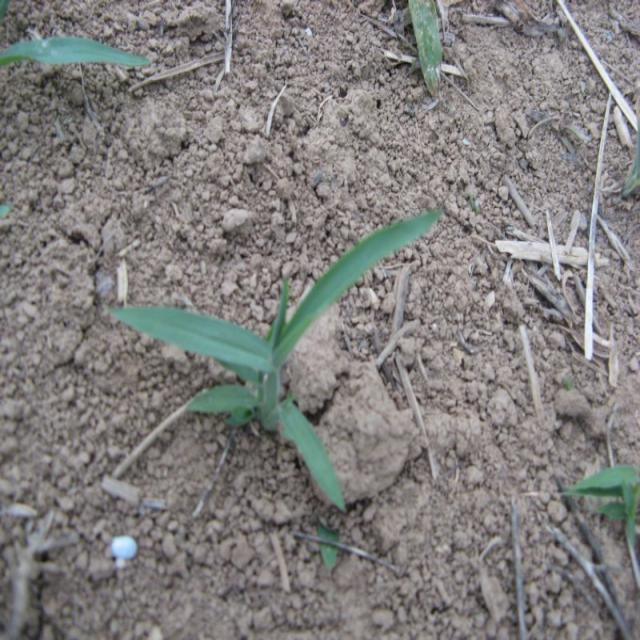bg: (108, 213, 441, 516)
